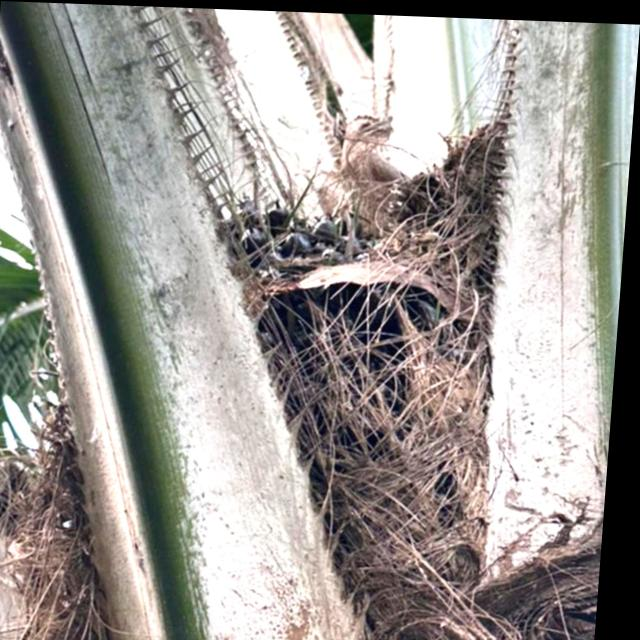unripe: (152, 188, 577, 591)
